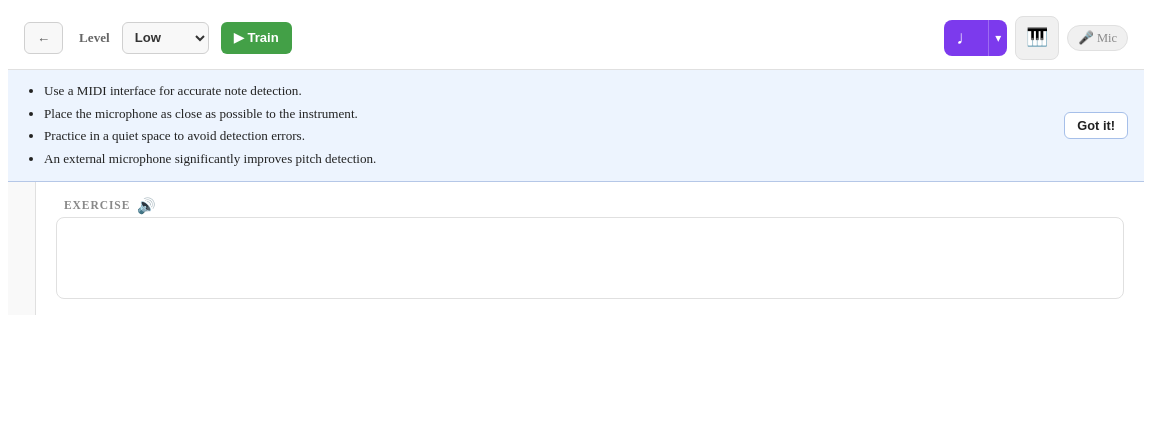
Test: TrainPlugin — complexity level selector (US1) › level selector is disabled while not in ready phase
The image size is (1152, 446).
What coordinates should you click on to do the following:
click the button with test id "train-play-btn"
I would click on:
 (256, 38)
Its box is 221,22 -> 292,54.
Wait 5000 ms
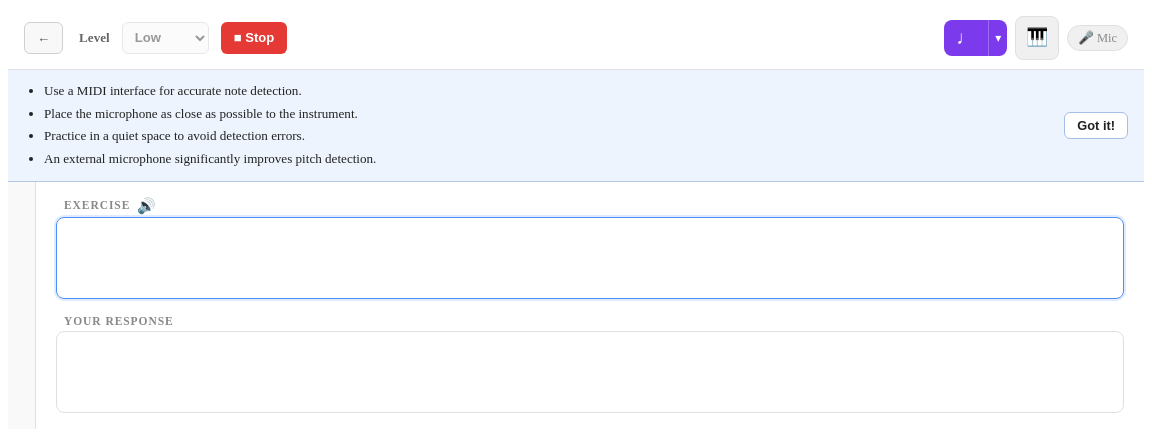
Result: the dropdown named "complexity level" is disabled at 122,22 -> 209,54
